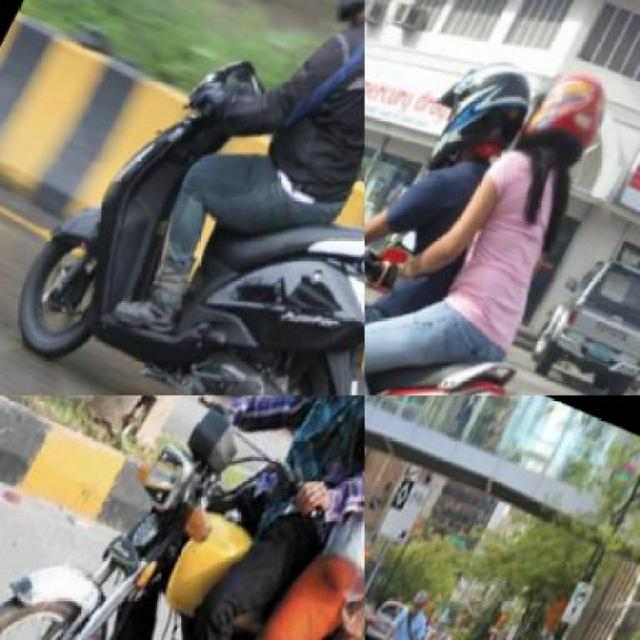With Helmet: (412, 37, 554, 180), (505, 57, 623, 178), (404, 581, 441, 621)
